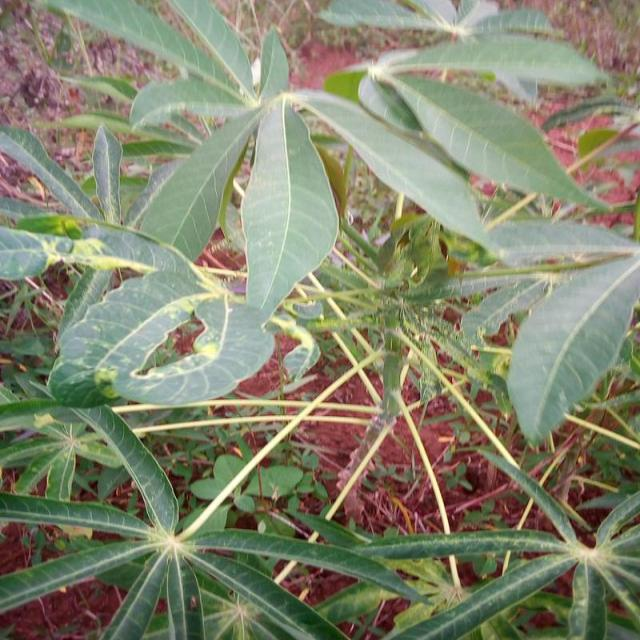cassava leaf: (505, 248, 639, 447), (239, 96, 339, 321)
